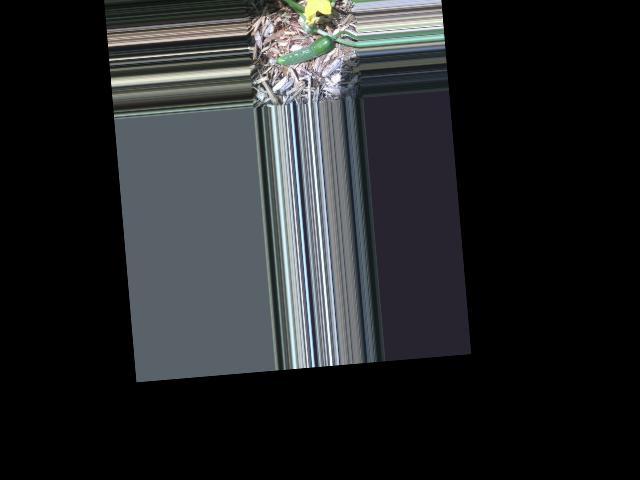cucumber: (269, 34, 335, 67)
